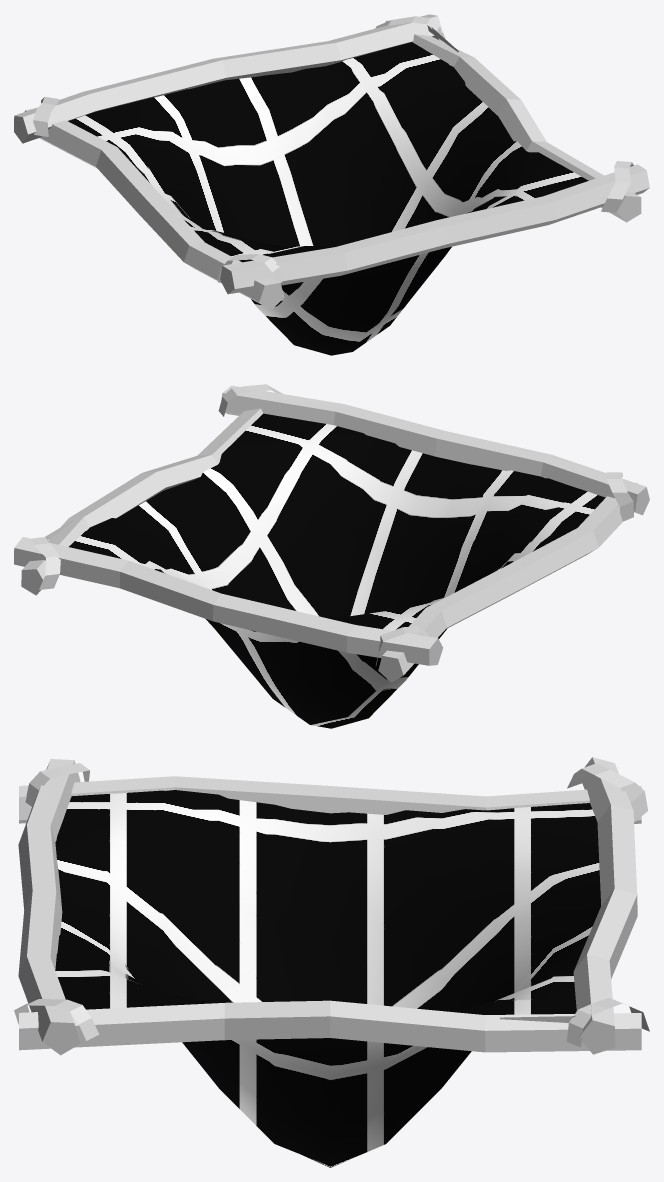
Rendered from FishingRaft.fbx.
3 views of the same model, one above another, from view 1: azimuth 30°, elevation 25°; view 2: azimuth 150°, elevation 25°; view 3: azimuth 270°, elevation 25° (orthographic). The views are drawn at different scales.
Visible parts, largest first — view 1: Grid, Cylinder.002; view 2: Grid, Cylinder.002; view 3: Grid, Cylinder.002.
Part boxes in pixels (x1,y1,x2,y2): Grid: [68, 42, 588, 355]; Cylinder.002: [14, 14, 649, 309]; Grid: [69, 413, 605, 728]; Cylinder.002: [14, 384, 649, 682]; Grid: [55, 790, 600, 1167]; Cylinder.002: [14, 757, 649, 1055].
Size of the model in its own units: 217 by 108 by 220.
